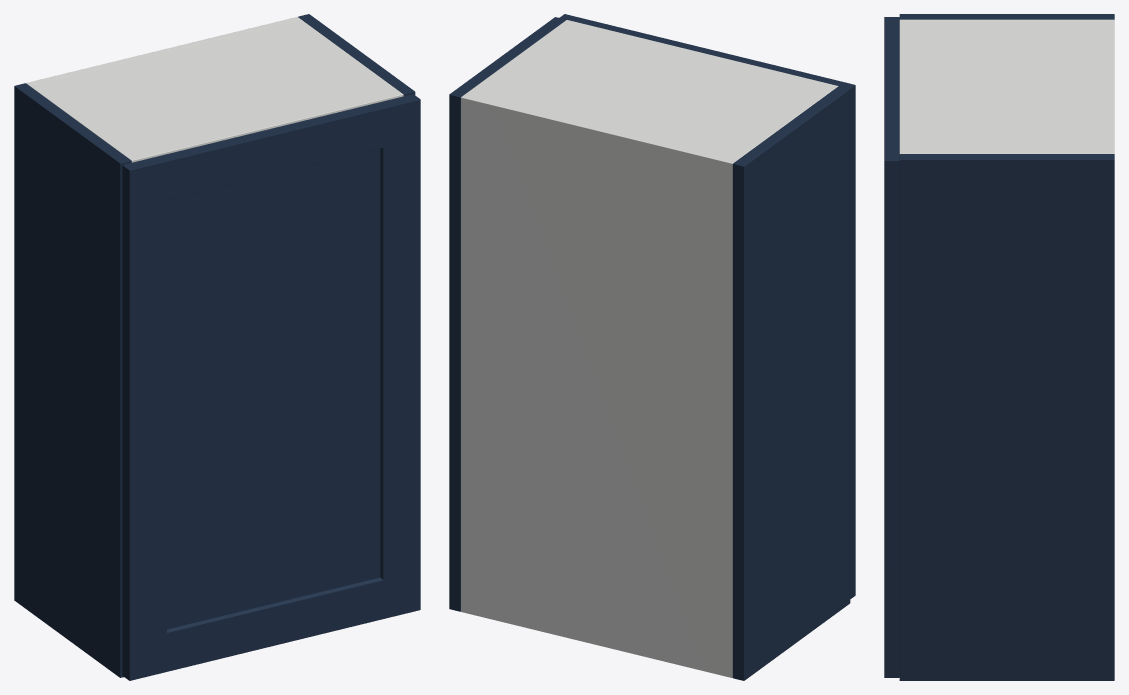
File: oppein-pb-bss-w1830.glb
3 renders of one model, left to right at view 1: azimuth 30°, elevation 25°; view 2: azimuth 150°, elevation 25°; view 3: azimuth 270°, elevation 25°, orthographic.
Parts seen in each view (by area): view 1: Door, Cabinet side, Cabinet top, Cabinet side.001, Cabinet back; view 2: Cabinet back, Cabinet side, Cabinet top, Cabinet side.001, Door; view 3: Cabinet side.001, Cabinet top, Door, Cabinet side, Cabinet back.
Part boxes in pixels (x1,y1,x2,y2): Door: (122,94,420,680); Cabinet side: (14,83,131,677); Cabinet top: (26,17,403,162); Cabinet side.001: (298,14,415,96); Cabinet back: (27,17,300,85); Cabinet back: (461,94,736,677); Cabinet side: (732,86,850,680); Cabinet top: (461,20,838,172); Cabinet side.001: (449,17,566,611); Door: (559,14,855,598); Cabinet side.001: (899,154,1114,680); Cabinet top: (899,19,1114,153); Door: (884,17,899,677); Cabinet side: (899,14,1114,19); Cabinet back: (1106,19,1114,153).
Size of the model in its own units: 0.4572 by 0.762 by 0.3048.
